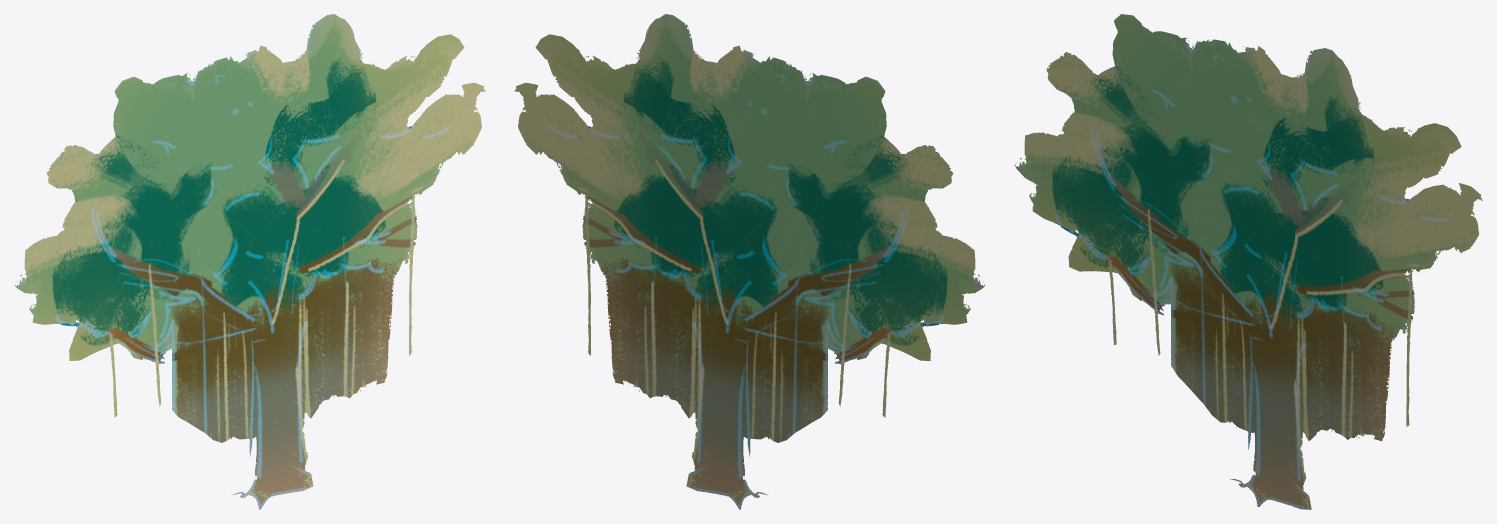
File: tree_5.fbx
3 views of the same model, side by side, from view 1: azimuth 30°, elevation 25°; view 2: azimuth 150°, elevation 25°; view 3: azimuth 330°, elevation 25° (orthographic).
Visible parts, largest first — view 1: mask_tree_2; view 2: mask_tree_2; view 3: mask_tree_2.
Part boxes in pixels (left/top/right/bottom): mask_tree_2: left=14, top=14, right=485, bottom=509; mask_tree_2: left=514, top=14, right=985, bottom=509; mask_tree_2: left=1014, top=14, right=1482, bottom=509.
Bounding box in the file's own units: 9.87 × 9.58 × 1.53e-07.
1 material, 1 textured.
